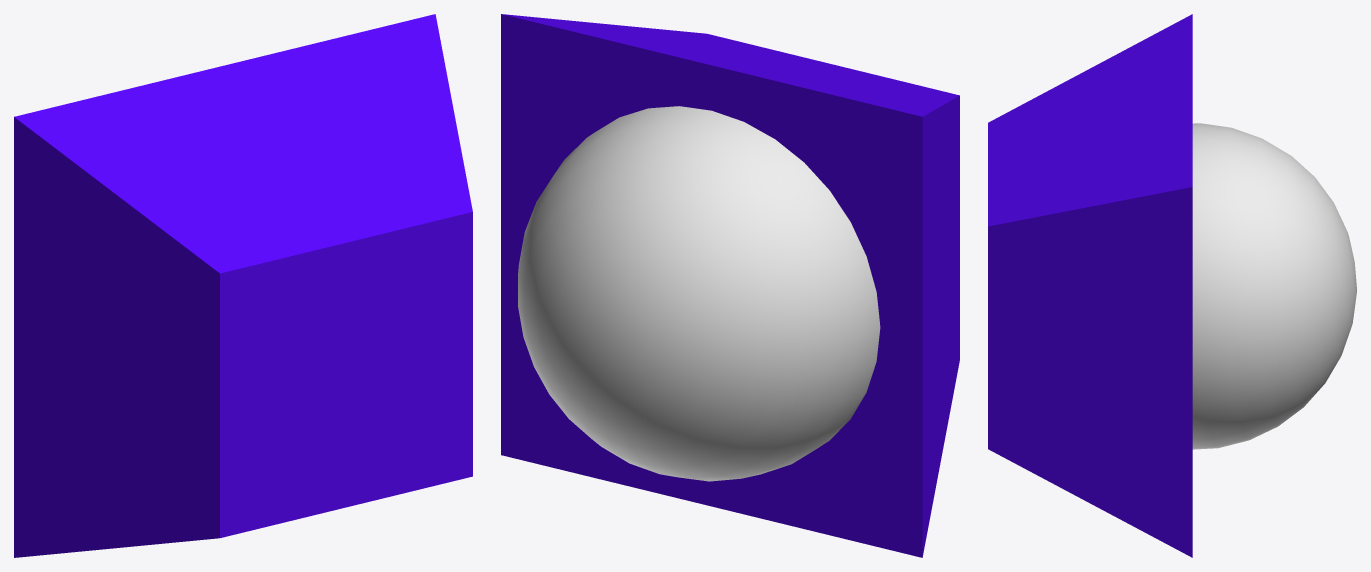
The model's file is output_unidirectional.glb.
3 views of the same model, side by side, from view 1: azimuth 30°, elevation 25°; view 2: azimuth 150°, elevation 25°; view 3: azimuth 270°, elevation 25° (orthographic). The views are drawn at different scales.
Parts seen in each view (by area): view 1: output_uni; view 2: Sphere.001, output_uni; view 3: output_uni, Sphere.001.
Part boxes in pixels (left/top/right/bottom): output_uni: left=14, top=14, right=472, bottom=557; Sphere.001: left=518, top=106, right=880, bottom=481; output_uni: left=501, top=14, right=959, bottom=557; output_uni: left=988, top=14, right=1192, bottom=557; Sphere.001: left=1192, top=123, right=1356, bottom=449.
Bounding box in the file's own units: 0.6 × 0.6 × 0.5408.
